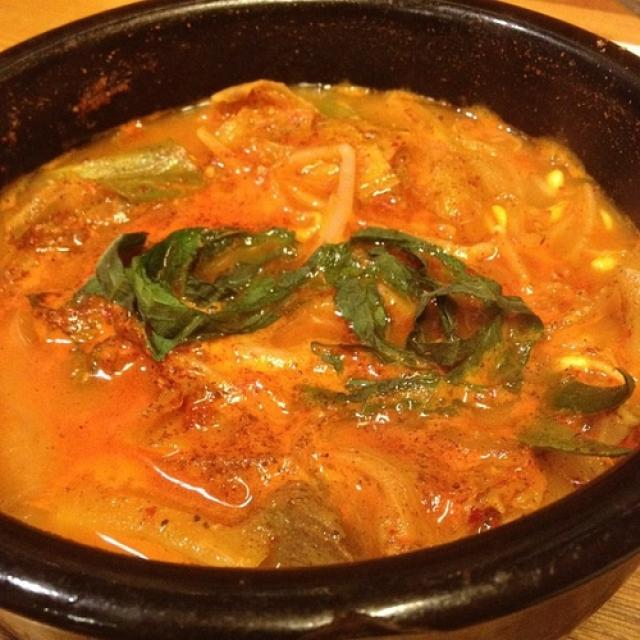汤锅炖物: (15, 10, 635, 616)
